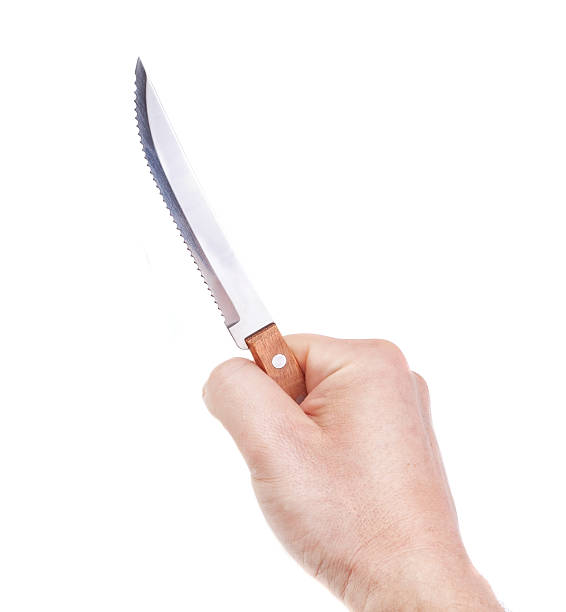knife: (128, 50, 308, 401)
